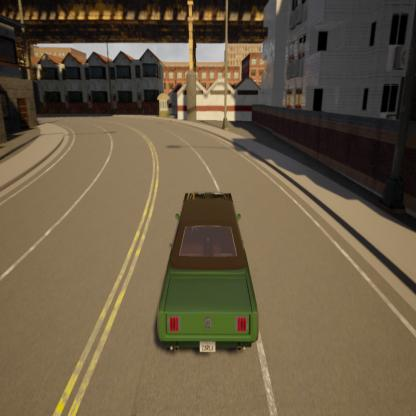Cars: (157, 192, 259, 353)
